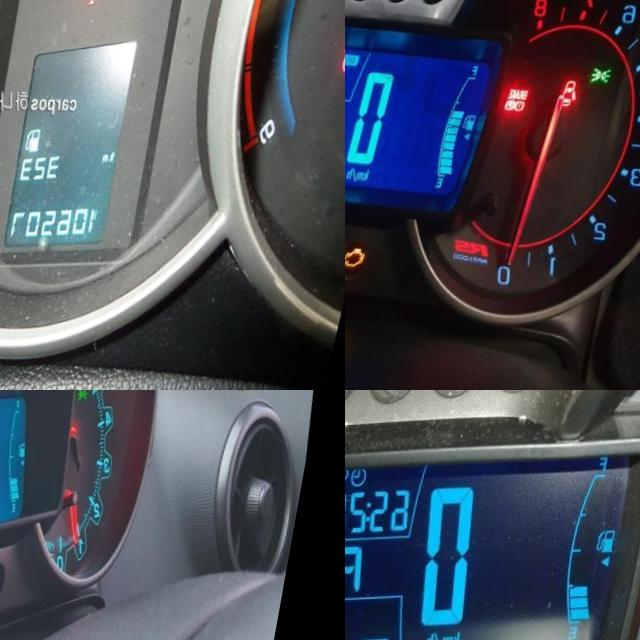Doors: (570, 81, 593, 110)
SideLamp: (600, 68, 626, 89), (86, 390, 99, 404)
